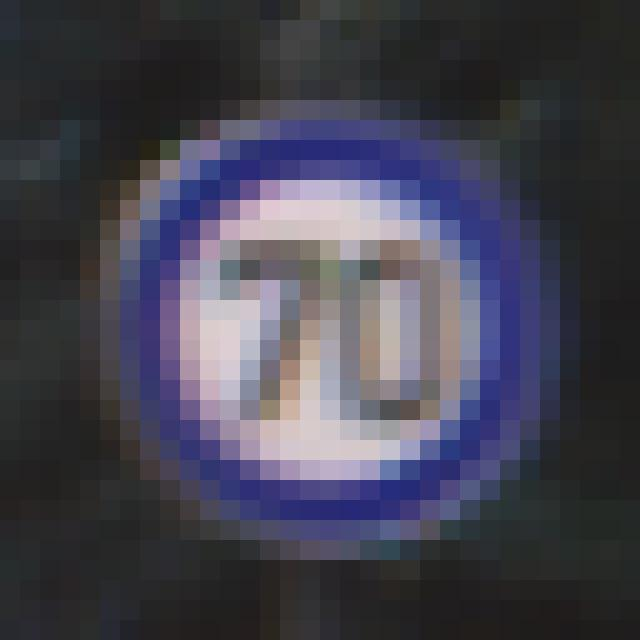SPEED LIMIT 70: (96, 109, 528, 554)
